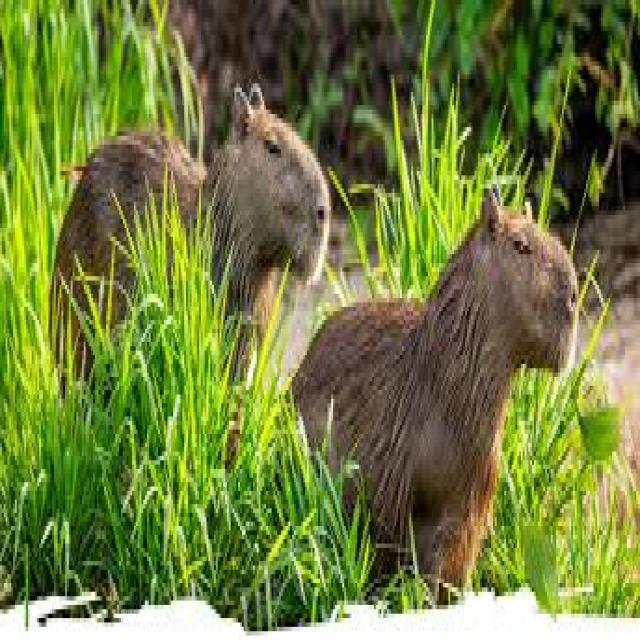capy: (292, 187, 578, 590), (48, 88, 330, 433)
